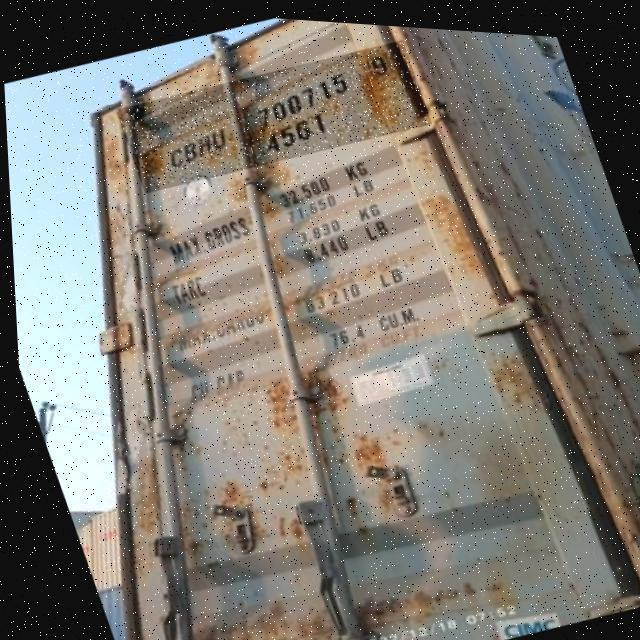ISO: (256, 106, 331, 162)
container_number: (163, 50, 392, 174)
